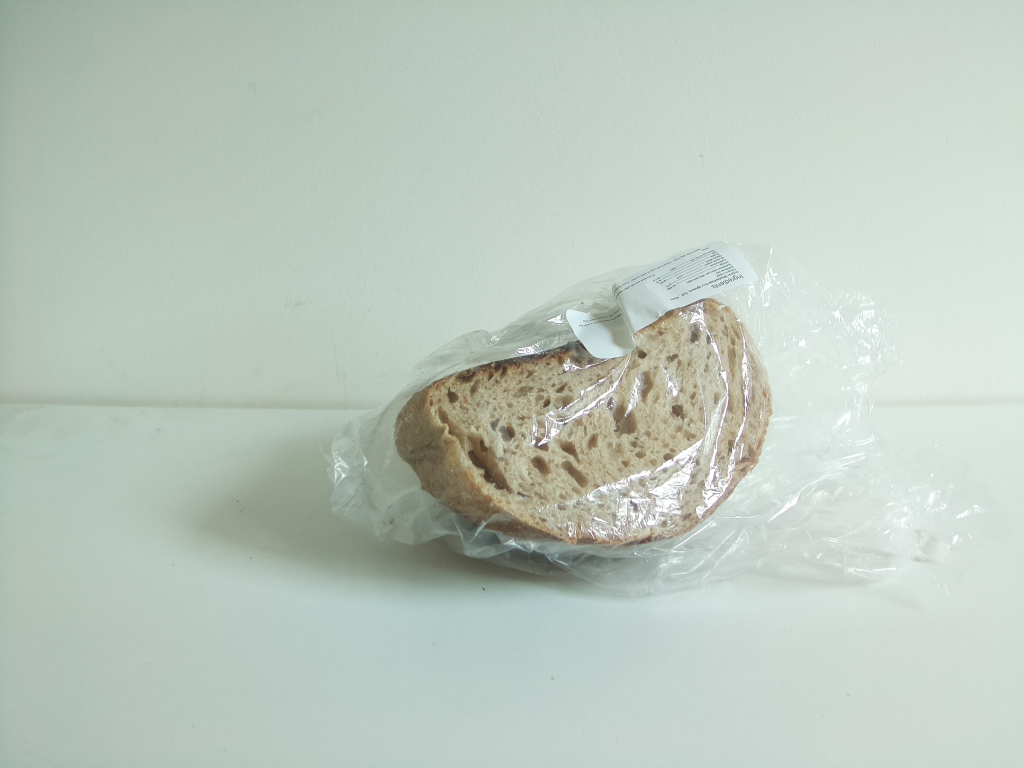bread: (394, 298, 777, 552)
